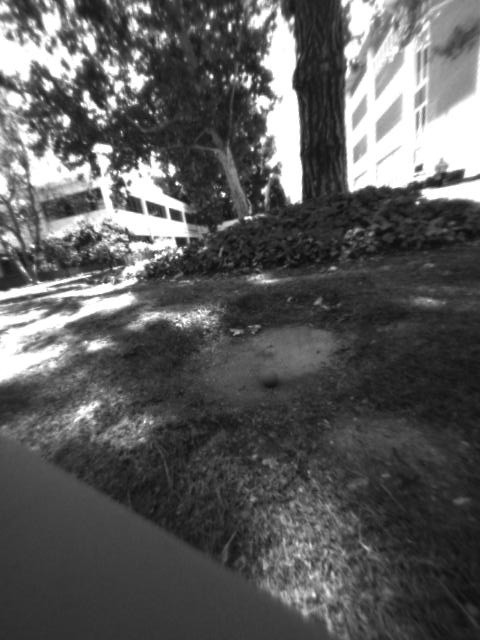dogtoy: (251, 356, 290, 395)
